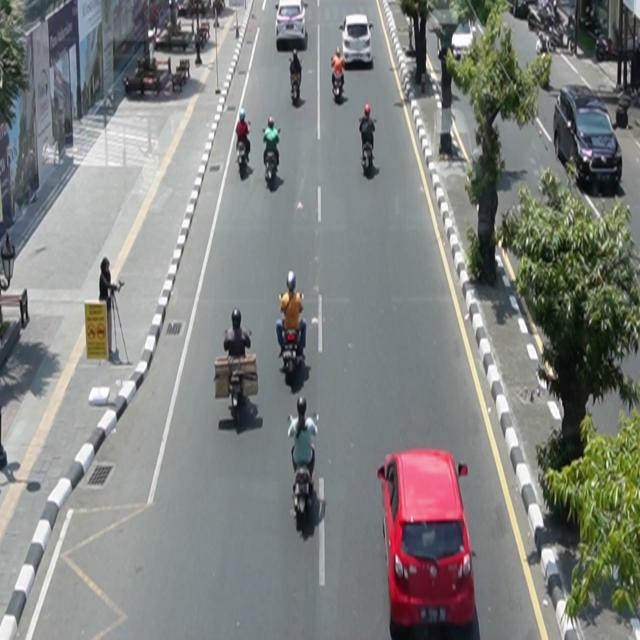car: (378, 449, 477, 640), (553, 85, 624, 194), (340, 14, 375, 68), (276, 1, 308, 47)
